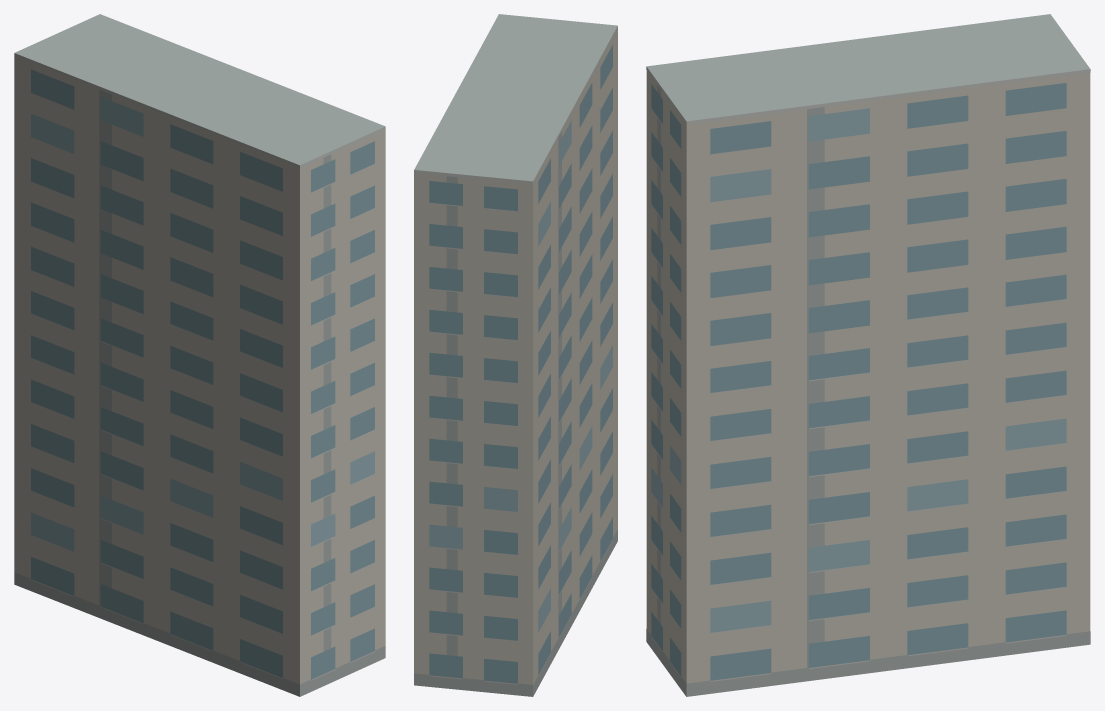
The model's file is residential-5acac88d-1bf7-4c3e-bb93-94311a56475b.glb.
3 views of the same model, side by side, from view 1: azimuth 30°, elevation 25°; view 2: azimuth 150°, elevation 25°; view 3: azimuth 270°, elevation 25° (orthographic). The views are drawn at different scales.
Parts seen in each view (by area): view 1: residential-5acac88d-1bf7-4c3e-bb93-94311a56475b.tmp; view 2: residential-5acac88d-1bf7-4c3e-bb93-94311a56475b.tmp; view 3: residential-5acac88d-1bf7-4c3e-bb93-94311a56475b.tmp.
Part boxes in pixels (bbox=[...]): residential-5acac88d-1bf7-4c3e-bb93-94311a56475b.tmp: bbox=[14, 14, 385, 696]; residential-5acac88d-1bf7-4c3e-bb93-94311a56475b.tmp: bbox=[414, 14, 617, 696]; residential-5acac88d-1bf7-4c3e-bb93-94311a56475b.tmp: bbox=[646, 14, 1090, 696].
Size of the model in its own units: 16.42 by 41 by 28.68.
